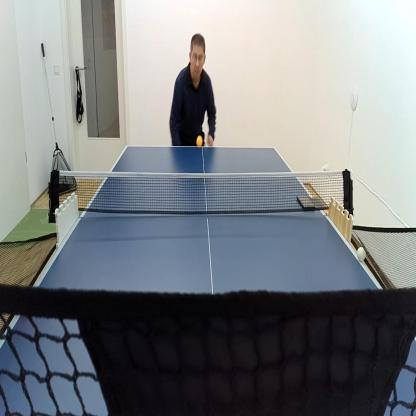Ball: (357, 245, 367, 263), (196, 134, 204, 148), (323, 161, 330, 174)
